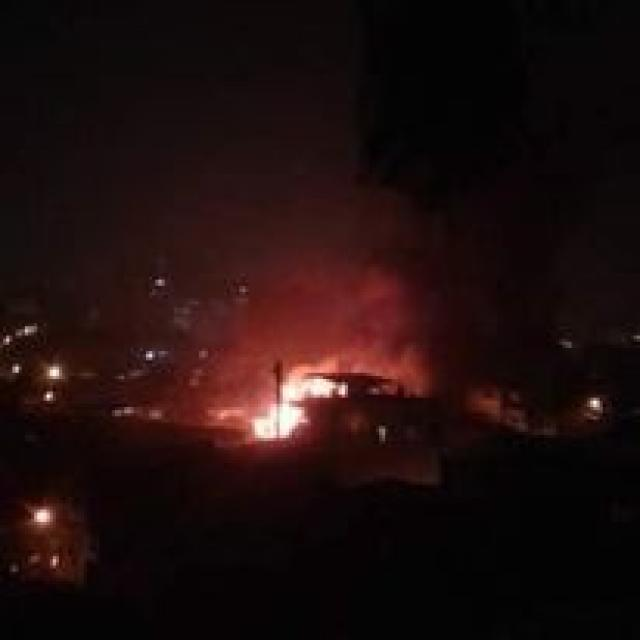Fire: (254, 362, 351, 446)
